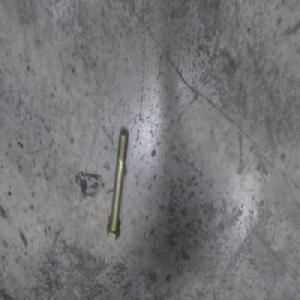Bolt: (107, 128, 131, 246)
